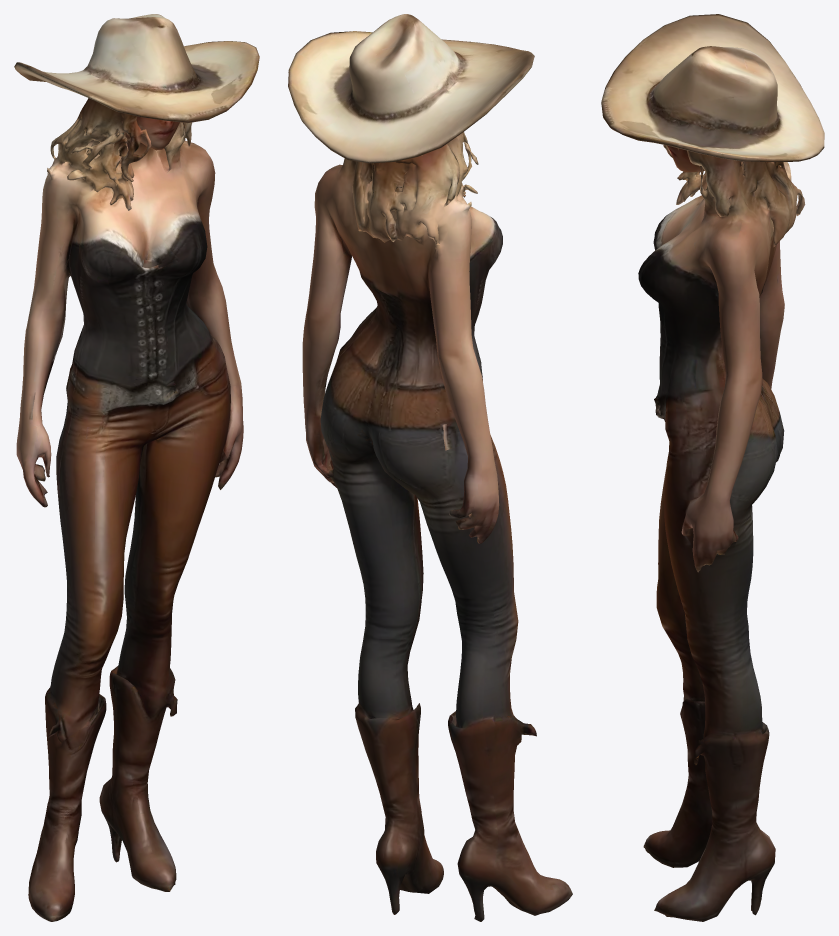
The model's file is jenna_w._blonde_styl_western_02.glb.
3 renders of one model, left to right at view 1: azimuth 30°, elevation 25°; view 2: azimuth 150°, elevation 25°; view 3: azimuth 270°, elevation 25°, orthographic. The views are drawn at different scales.
Parts seen in each view (by area): view 1: Object_4; view 2: Object_4; view 3: Object_4.
Boxes of the visible parts, box(x1,y1,x2,y2) form: Object_4: box(14, 14, 259, 921); Object_4: box(288, 14, 572, 921); Object_4: box(601, 14, 824, 921).
Size of the model in its own units: 0.5172 by 1.8 by 0.4166.
1 material, 1 textured.
